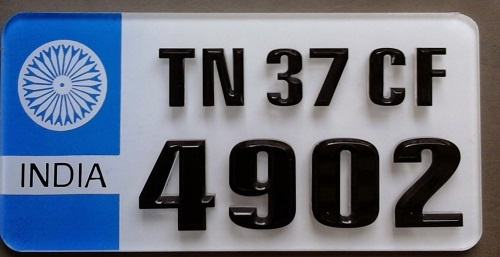plate: (26, 16, 485, 255)
